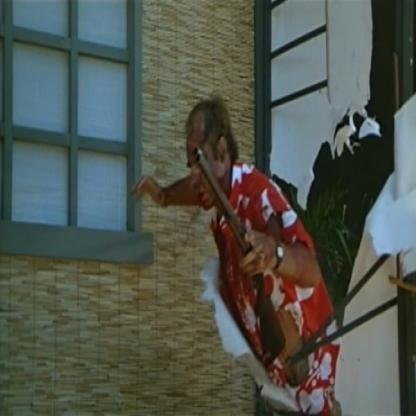Guns: (191, 143, 287, 374)
